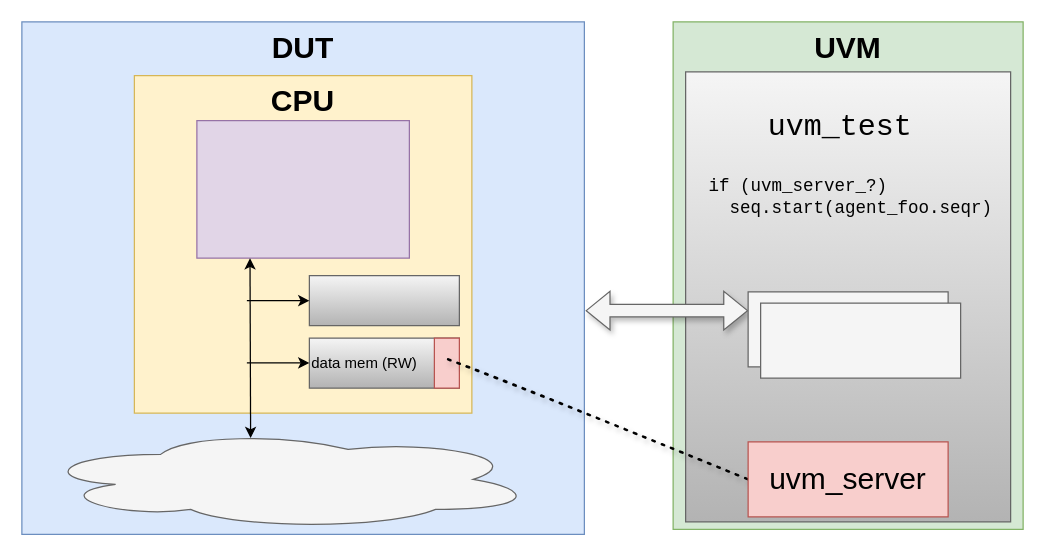
The diagram is 1045 pixels wide and 556 high, and some of its shapes have lost their labels. The centre of each missing label's shape, as x and y in pixels:
"agents" goes at pixel 860 340.
"core" goes at pixel 302 188.
"IPs" goes at pixel 285 478.
"text mem (RO)" goes at pixel 383 300.
